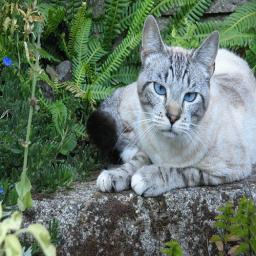catnose: (165, 112, 181, 124)
